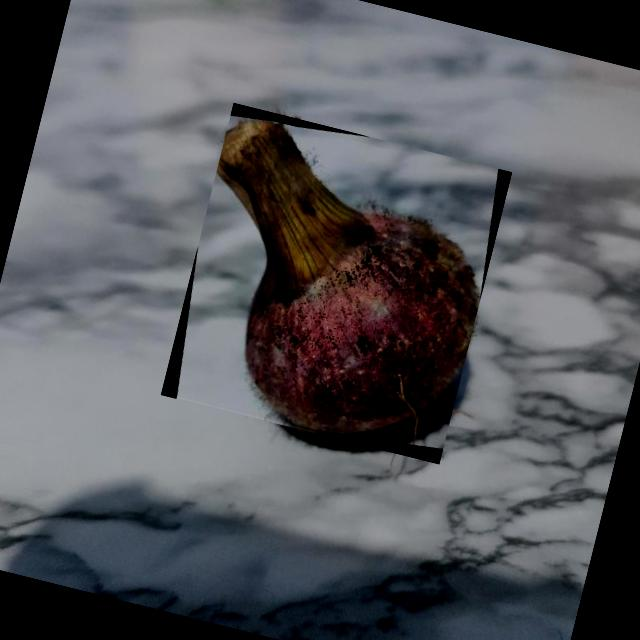rotten: (215, 122, 477, 433)
